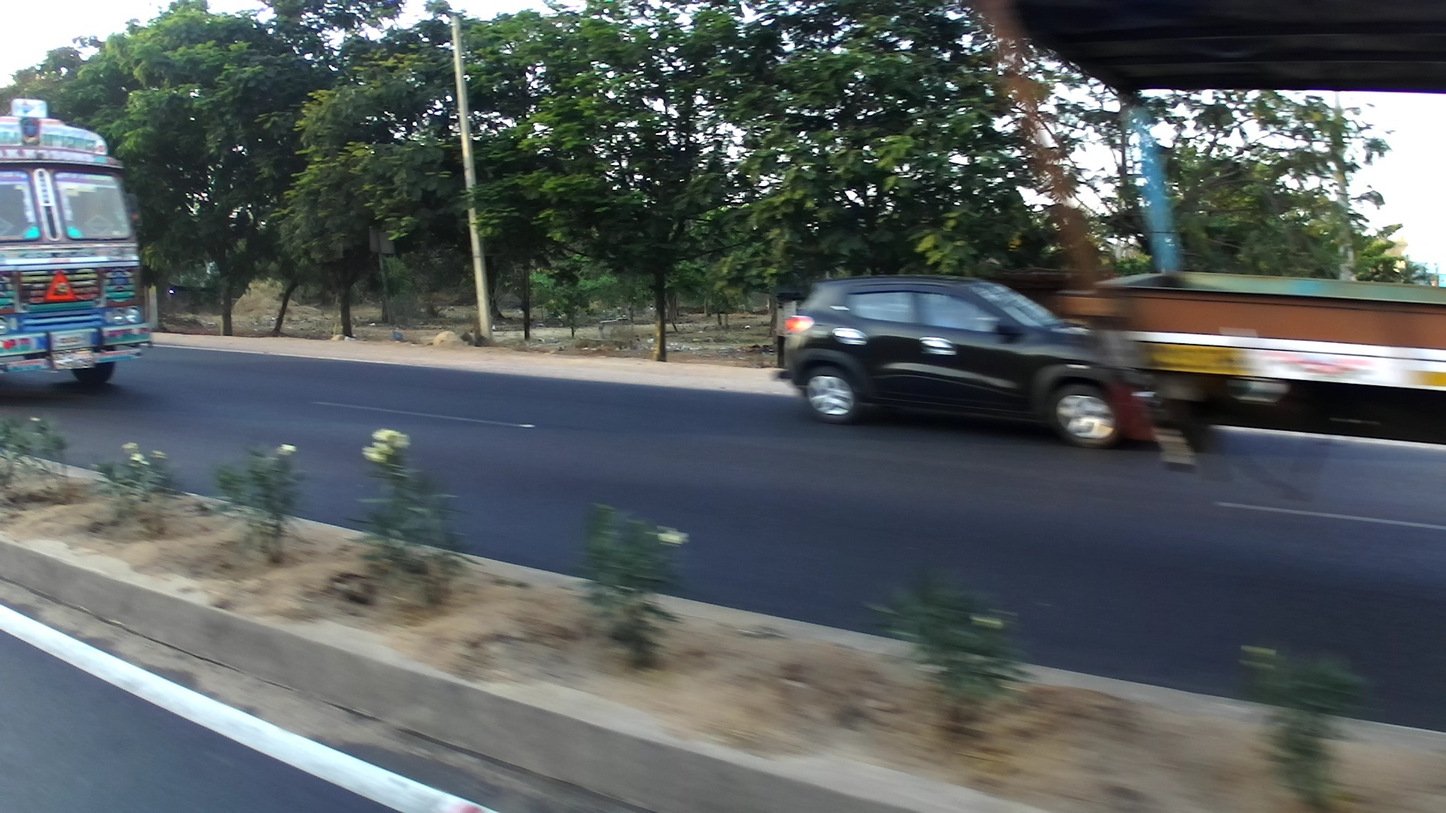car: (784, 271, 1152, 450)
truck: (2, 109, 154, 386)
vehicle fallback: (975, 1, 1446, 473)
